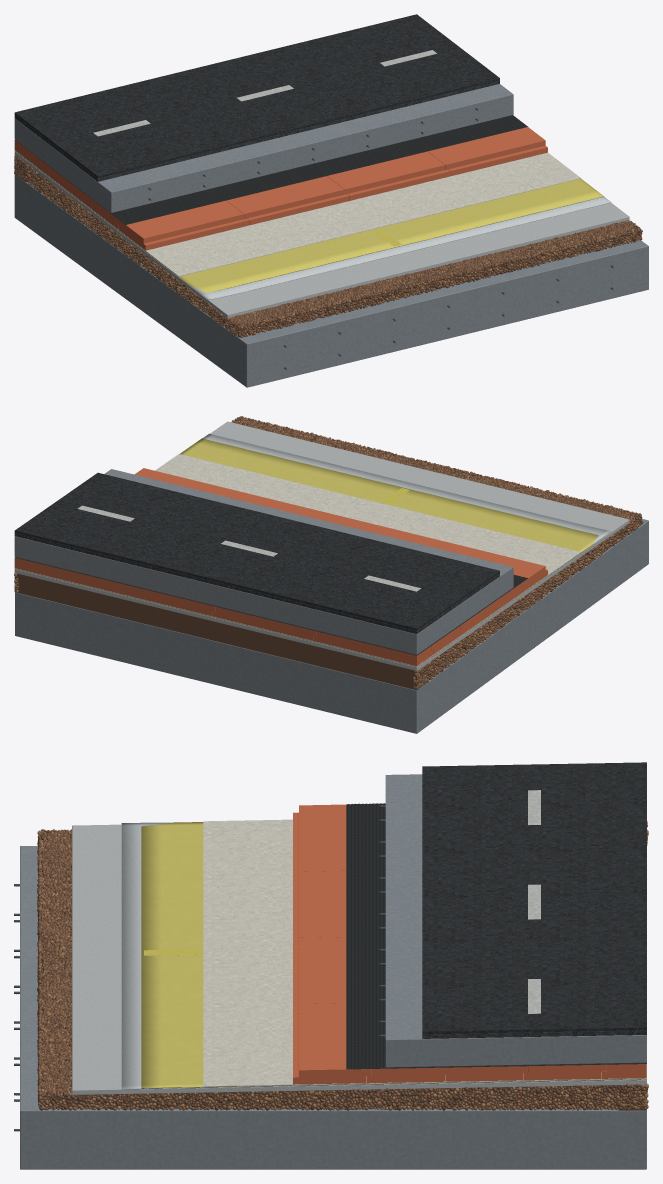
The model's file is invers-way-optimized.glb.
The picture shows the model from 3 angles, top to bottom: view 1: azimuth 30°, elevation 25°; view 2: azimuth 150°, elevation 25°; view 3: azimuth 270°, elevation 25°; orthographic projection. The views are drawn at different scales.
Visible parts, largest first — view 1: Асфальтобетон · верхний слой, 12_Железобетонная плита, Распределительная железобетонная, PLASTFOIL CANVAS, 11_Керамзит R2 | нерегулярная насыпь, Цементно-песчаная стяжка · 40 мм, 07_Сигнальная жёлтая поверхность GEO, 02_Основа профилированной мембраны, 02_Профили PLASTGUARD / высота 8 мм, 08_Защитный геотекстиль, 11_Керамзитовый клин, 03_XPS_00_00 | цельная L-кромка (+4 smaller); view 2: Асфальтобетон · верхний слой, 12_Железобетонная плита, Распределительная железобетонная, PLASTFOIL CANVAS, Цементно-песчаная стяжка · 40 мм, 11_Керамзитовый клин, 07_Сигнальная жёлтая поверхность GEO, 11_Керамзит R2 | нерегулярная насыпь, 08_Защитный геотекстиль, Асфальтобетон · нижний слой, 03_XPS_00_00 | цельная L-кромка, 03_XPS_04_00 | цельная L-кромка (+7 smaller); view 3: Асфальтобетон · верхний слой, 12_Железобетонная плита, PLASTFOIL CANVAS, 11_Керамзит R2 | нерегулярная насыпь, Распределительная железобетонная, 07_Сигнальная жёлтая поверхность GEO, Цементно-песчаная стяжка · 40 мм, 02_Основа профилированной мембраны, 02_Профили PLASTGUARD / высота 8 мм, 11_Керамзитовый клин, 08_Защитный геотекстиль, 03_XPS_00_03 | цельная L-кромка (+8 smaller).
Boxes of the visible parts, x1,y1,x2,y2 form: Асфальтобетон · верхний слой: (14, 14, 499, 178); 12_Железобетонная плита: (14, 174, 648, 387); Распределительная железобетонная: (14, 84, 513, 212); PLASTFOIL CANVAS: (15, 150, 581, 276); 11_Керамзит R2 | нерегулярная насыпь: (14, 155, 642, 337); Цементно-песчаная стяжка · 40 мм: (14, 152, 629, 317); 07_Сигнальная жёлтая поверхность GEO: (15, 151, 603, 293); 02_Основа профилированной мембраны: (15, 115, 527, 224); 02_Профили PLASTGUARD / высота 8 мм: (16, 115, 525, 224); 08_Защитный геотекстиль: (15, 151, 611, 299); 11_Керамзитовый клин: (30, 169, 637, 334); 03_XPS_00_00 | цельная L-кромка: (116, 200, 248, 250); Асфальтобетон · верхний слой: (14, 472, 499, 630); 12_Железобетонная плита: (15, 519, 648, 733); Распределительная железобетонная: (14, 469, 513, 654); PLASTFOIL CANVAS: (14, 454, 581, 666); Цементно-песчаная стяжка · 40 мм: (14, 421, 629, 670); 11_Керамзитовый клин: (18, 419, 635, 689); 07_Сигнальная жёлтая поверхность GEO: (16, 438, 601, 666); 11_Керамзит R2 | нерегулярная насыпь: (14, 416, 643, 689); 08_Защитный геотекстиль: (14, 433, 611, 667); Асфальтобетон · нижний слой: (14, 533, 499, 633); 03_XPS_00_00 | цельная L-кромка: (436, 541, 547, 593); 03_XPS_04_00 | цельная L-кромка: (313, 631, 433, 665); Асфальтобетон · верхний слой: (422, 762, 646, 1034); 12_Железобетонная плита: (20, 846, 646, 1169); PLASTFOIL CANVAS: (203, 819, 646, 1086); 11_Керамзит R2 | нерегулярная насыпь: (37, 829, 647, 1110); Распределительная железобетонная: (385, 774, 646, 1067); 07_Сигнальная жёлтая поверхность GEO: (141, 822, 645, 1088); Цементно-песчаная стяжка · 40 мм: (72, 824, 646, 1094); 02_Основа профилированной мембраны: (346, 803, 646, 1069); 02_Профили PLASTGUARD / высота 8 мм: (347, 803, 385, 1067); 11_Керамзитовый клин: (44, 832, 618, 1108); 08_Защитный геотекстиль: (121, 822, 646, 1089); 03_XPS_00_03 | цельная L-кромка: (293, 1003, 370, 1084).
Size of the model in its own units: 4.84 by 1.2 by 4.86.
19 materials, 15 textured.
